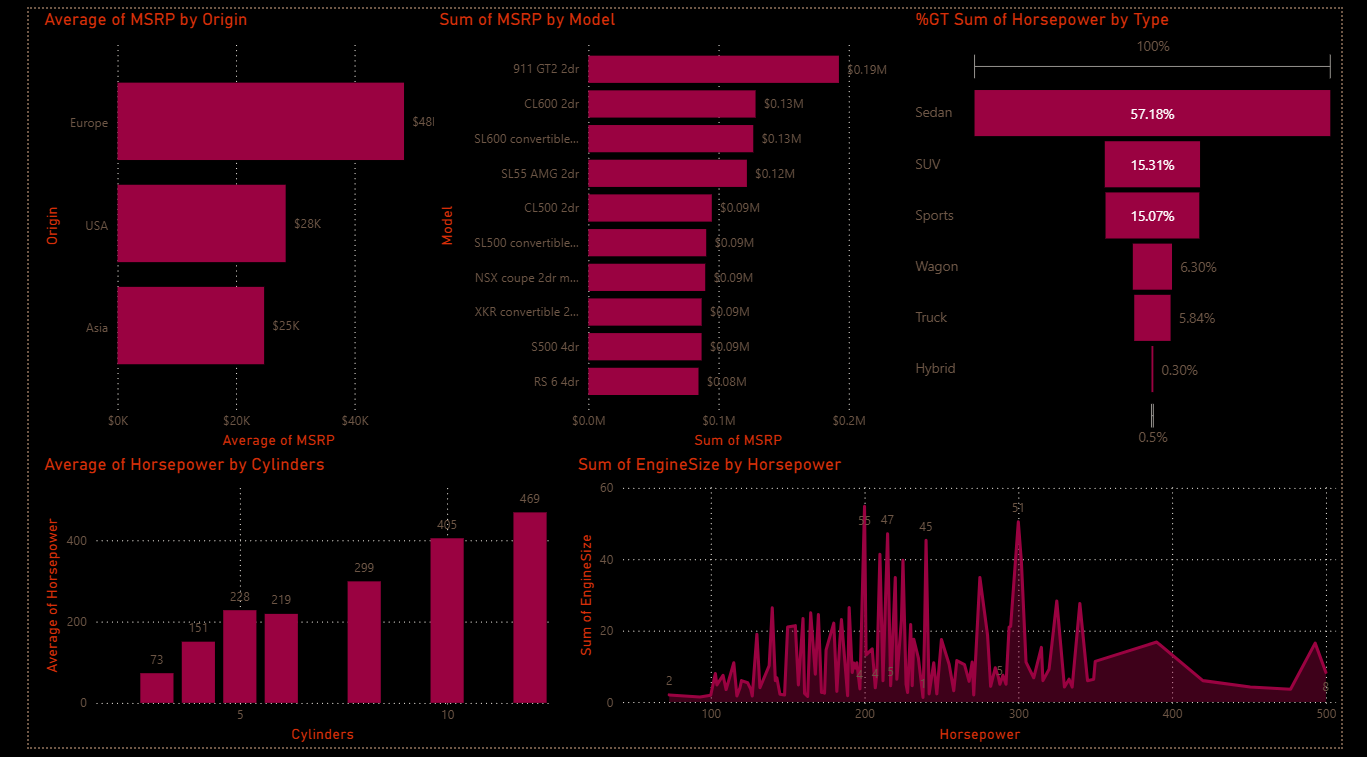

What the dashboard file says about the page in this screenshot:
{"tool":"powerbi","page":{"name":"Page 3","canvas":[1280,720],"ordinal":2},"visuals":[{"type":"clusteredBarChart","fields":{"Category":["CARS.Origin"],"Y":["Avg(CARS.MSRP)"]},"box":[9.6,0,410.3,433.6],"z":0},{"type":"clusteredColumnChart","fields":{"Y":["Avg(CARS.Horsepower)"],"Category":["CARS.Cylinders"]},"box":[9.6,433.6,502.2,286.8],"z":1000},{"type":"clusteredBarChart","fields":{"Y":["Sum(CARS.MSRP)"],"Category":["CARS.Model"]},"box":[395.2,0,465.2,433.6],"z":2000},{"type":"lineChart","fields":{"Y":["Sum(CARS.EngineSize)"],"Category":["CARS.Horsepower"]},"box":[530,434,750,286],"z":3000},{"type":"funnel","fields":{"Category":["CARS.Type"],"Y":["Sum(CARS.Horsepower)"]},"box":[860,0,420,434],"z":4000}]}

Visuals, with their boxes in screenshot pixels (x1, y1, x2, y2), scaled from the page's 1280x720 canvas onto the 1367x757 screenshot:
clusteredBarChart - CARS.Origin x Avg(CARS.MSRP): locate(10, 0, 448, 456)
clusteredColumnChart - Avg(CARS.Horsepower) x CARS.Cylinders: locate(10, 456, 547, 756)
clusteredBarChart - Sum(CARS.MSRP) x CARS.Model: locate(422, 0, 919, 456)
lineChart - Sum(CARS.EngineSize) x CARS.Horsepower: locate(566, 456, 1366, 756)
funnel - CARS.Type x Sum(CARS.Horsepower): locate(918, 0, 1366, 456)
